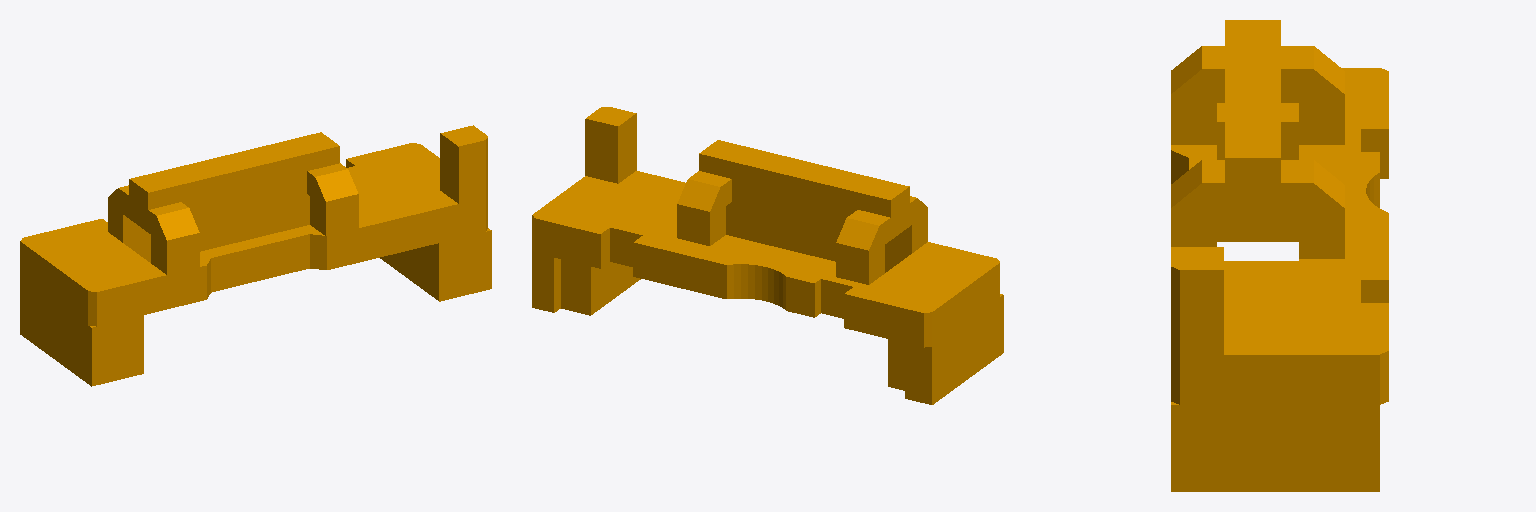
URDF robot description (foam_wrench_mount):
<?xml version="1.0"?>
<robot name="foam_wrench_mount">
  <link name="object">
    <visual>
      <origin xyz="0 0 0"/>
      <geometry>
        <mesh filename="foam_wrench_mount_coarse.obj"/>
      </geometry>
    </visual>
    <collision>
      <origin rpy="0 0 0" xyz="-0.053 -0.024 0.1415"/>
      <geometry>
        <box size="0.35 0.06 0.283"/>
        <!-- <mesh filename="foam_wrench_mount_coarse.obj"/> -->
      </geometry>
      <!-- <sdf resolution="10"/> -->
    </collision>
    <!-- <inertial>
      <density value="400.0"/>
    </inertial> -->
  </link>
</robot>

--- Render facts (derived) ---
3 views of the same robot in one strip: view 1: azimuth 30°, elevation 25°; view 2: azimuth 150°, elevation 25°; view 3: azimuth 270°, elevation 25° (orthographic).
Model foam_wrench_mount with 1 links and 0 joints (none), rooted at object, posed all joints at 0.
Links seen in each view (by area): view 1: object; view 2: object; view 3: object.
Link boxes in pixels (x1,y1,x2,y2): object: (20, 125, 491, 386); object: (532, 107, 1003, 404); object: (1171, 20, 1388, 491).
Bounding box of the posed robot: 0.73 × 0.235 × 0.2825 m (x, y, z).
Meshes: 1 distinct files referenced, 1 mesh visuals loaded (1 OBJ).